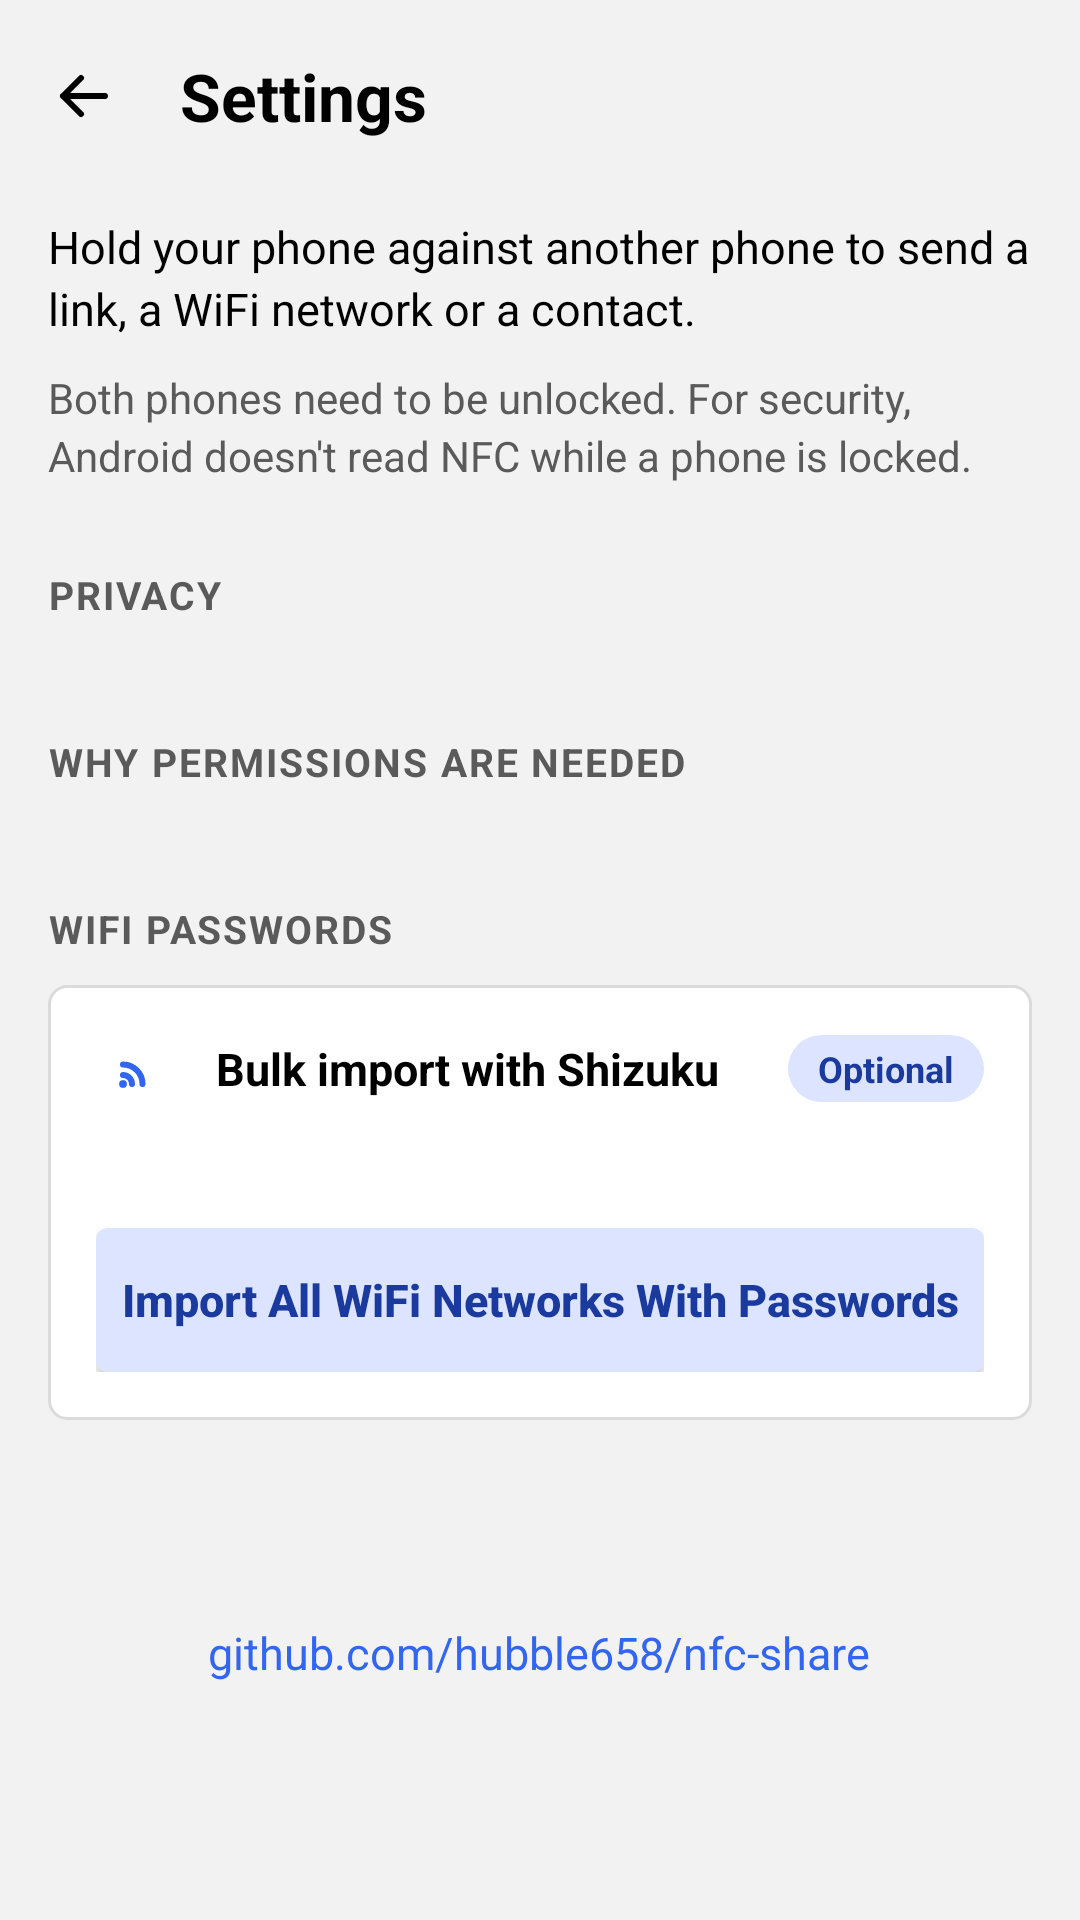

Icons on this 1080*1920 Android screen, each with its box as [x1,y1,x2,y2]:
Back: [60,75,108,117]
type wifi: [119,1061,146,1088]
